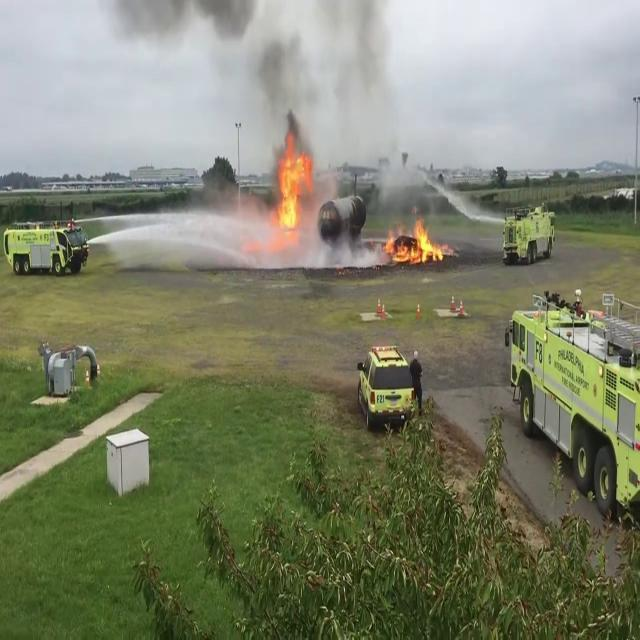Fire: (269, 136, 315, 240), (383, 211, 451, 268)
Smoke: (207, 0, 421, 155)
